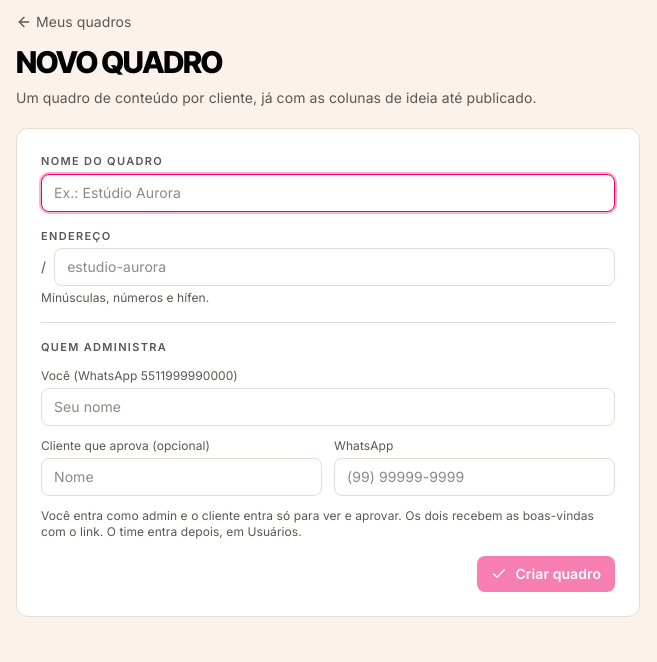
Test case: NewBoardPage · cliente opcional › explica o que falta quando só o número do cliente foi preenchido
Type "Enkra" into the field with placeholder "Ex.: Estúdio Aurora". click: coordinates (328, 192)
box: x1=41 y1=174 x2=615 y2=212
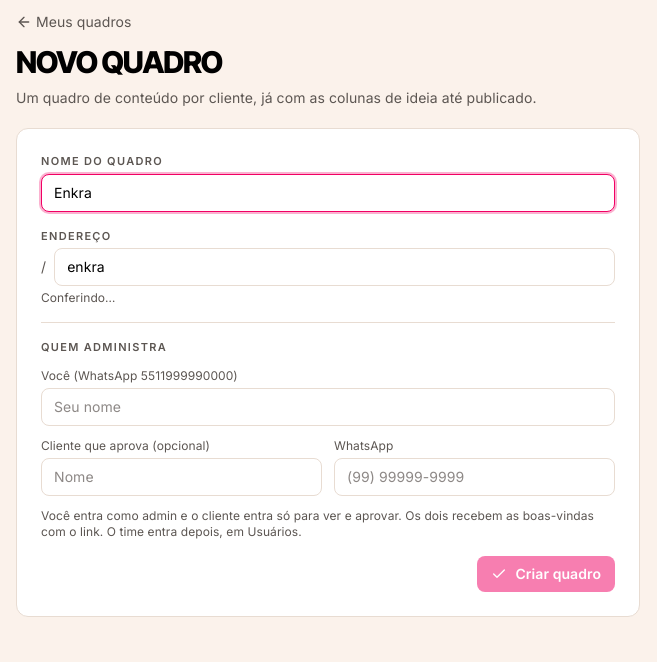
Type "Ana" into the field with placeholder "Seu nome". click: coordinates (328, 406)
box: x1=41 y1=388 x2=615 y2=426
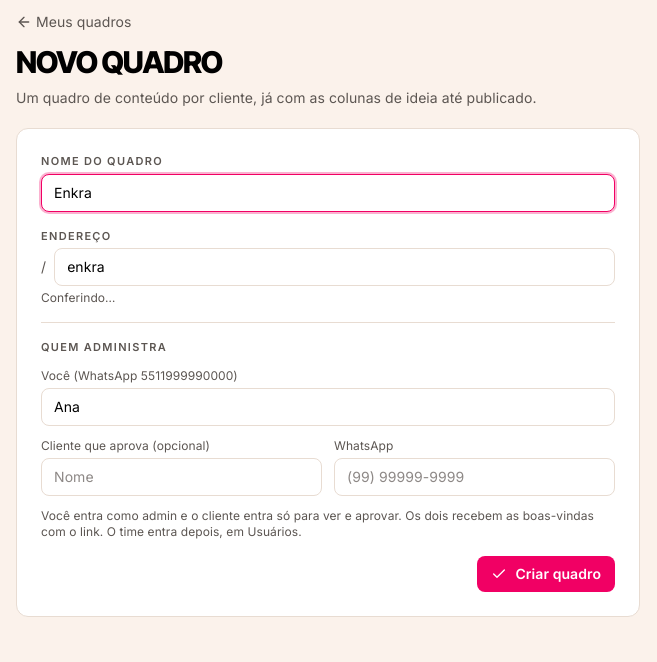
Type "85999990000" into the field with placeholder "(99) 99999-9999". click: coordinates (474, 476)
box: x1=334 y1=458 x2=615 y2=496
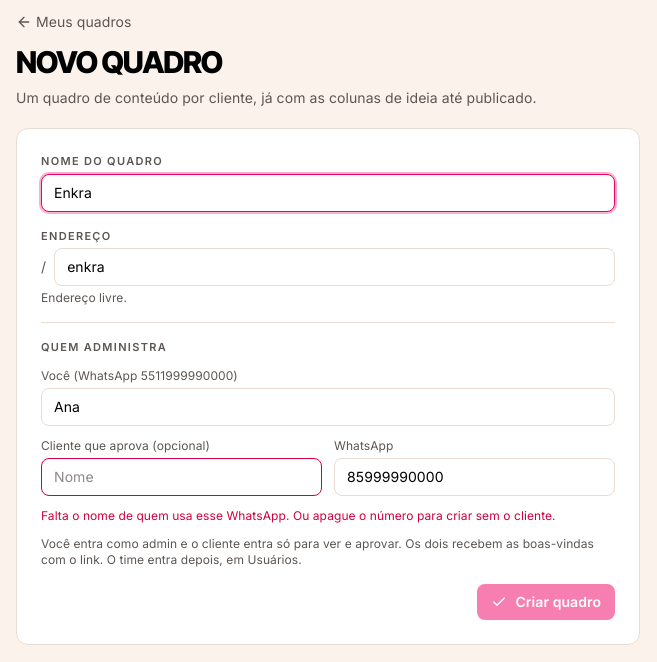
Check: the text "Endereço livre." is shown, box x1=41 y1=290 x2=127 y2=305
Check: the message shows "Falta o nome", box x1=41 y1=508 x2=556 y2=522
Check: the button "Criar quadro" is disabled, box x1=477 y1=584 x2=615 y2=620
